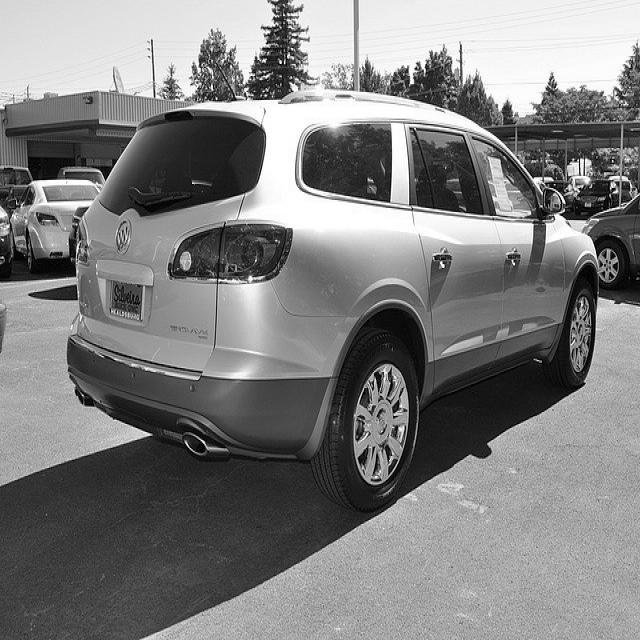car: (66, 88, 599, 512), (10, 177, 100, 272), (580, 192, 639, 289), (0, 204, 14, 277)
